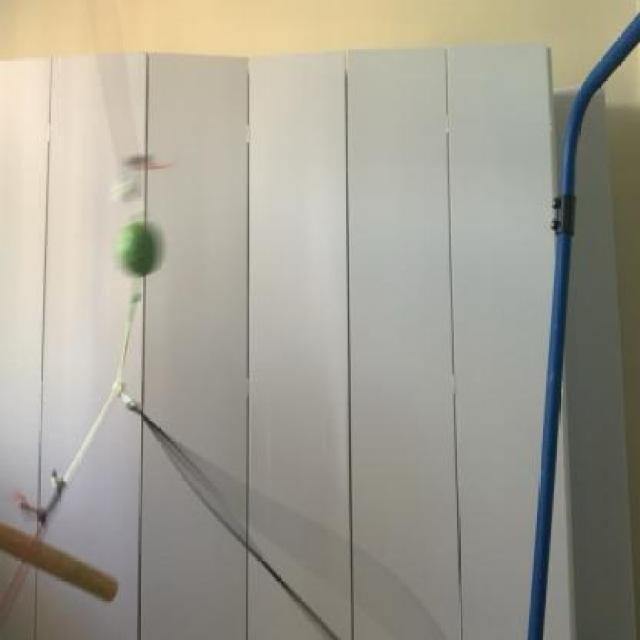baseball: (112, 209, 168, 282)
